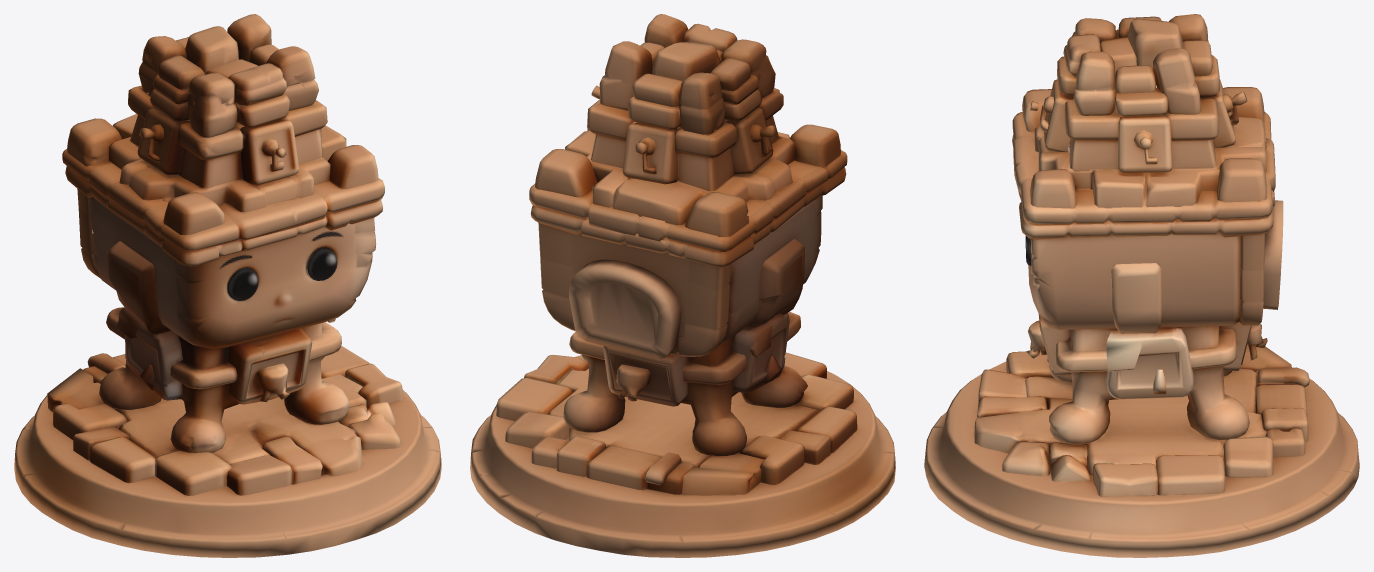
File: laos-rook.glb
3 views of the same model, side by side, from view 1: azimuth 30°, elevation 25°; view 2: azimuth 150°, elevation 25°; view 3: azimuth 270°, elevation 25° (orthographic). The views are drawn at different scales.
Visible parts, largest first — view 1: tripo_1768e00a_e8ec_4b0d_88c5_3c45e4e3583b; view 2: tripo_1768e00a_e8ec_4b0d_88c5_3c45e4e3583b; view 3: tripo_1768e00a_e8ec_4b0d_88c5_3c45e4e3583b.
Part boxes in pixels (box(x1,y1,x2,y2)): tripo_1768e00a_e8ec_4b0d_88c5_3c45e4e3583b: box(14, 14, 441, 557); tripo_1768e00a_e8ec_4b0d_88c5_3c45e4e3583b: box(470, 14, 895, 557); tripo_1768e00a_e8ec_4b0d_88c5_3c45e4e3583b: box(924, 14, 1359, 557).
Bounding box in the file's own units: 0.9077 × 0.9995 × 0.9077.
1 material, 1 textured.
